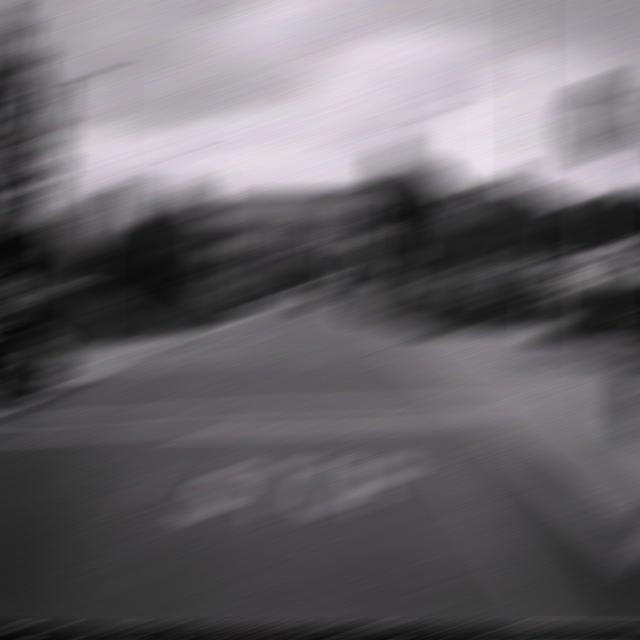stop_sign: (562, 74, 628, 160)
